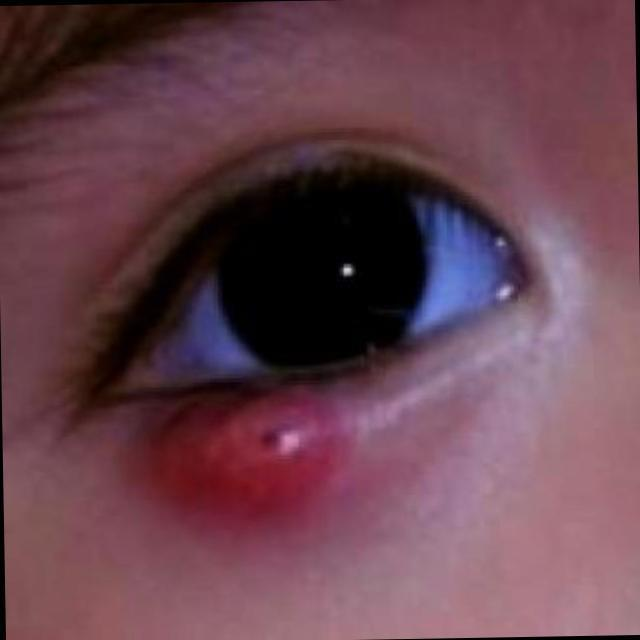Stye: (96, 378, 379, 560)
